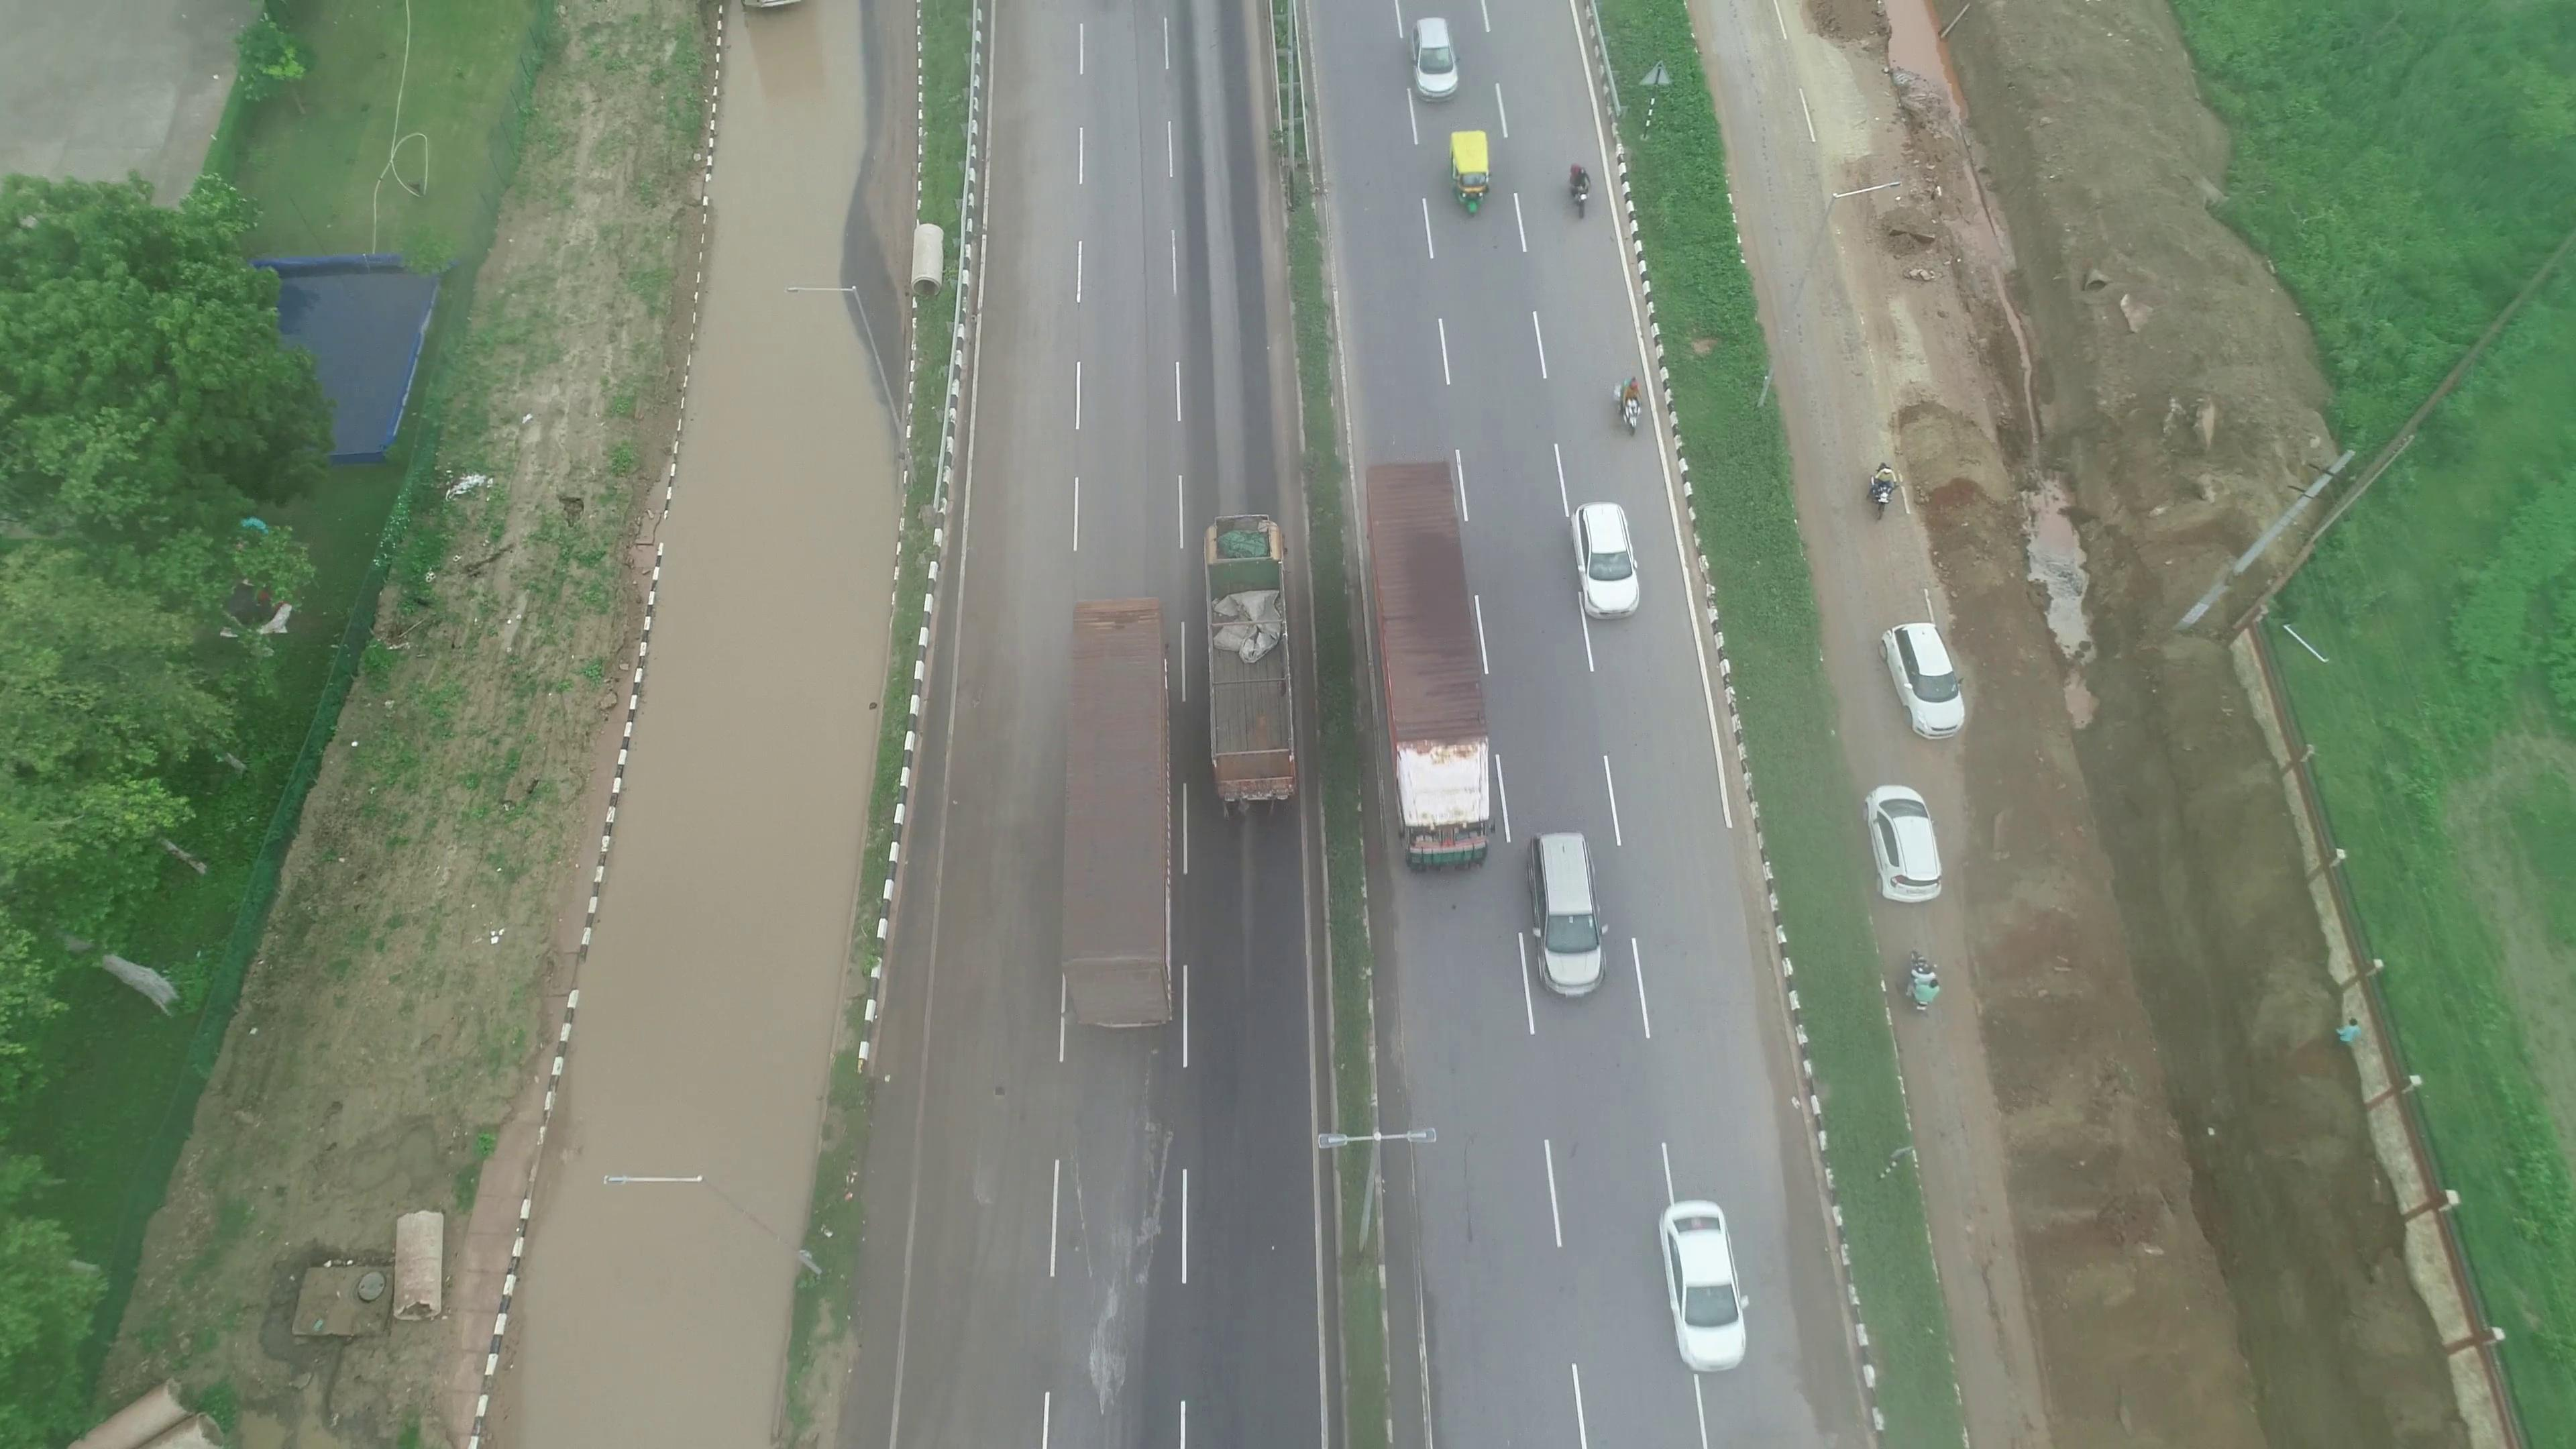Waterlogging: (524, 616, 830, 1288), (671, 41, 867, 598)
